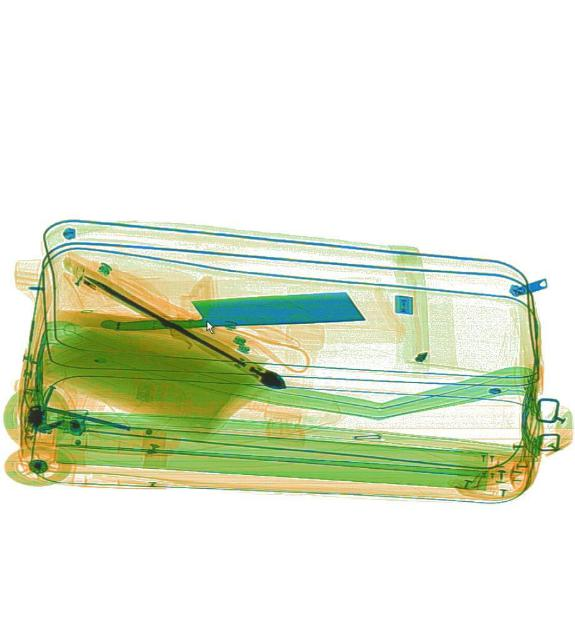Knife: (101, 289, 364, 331)
